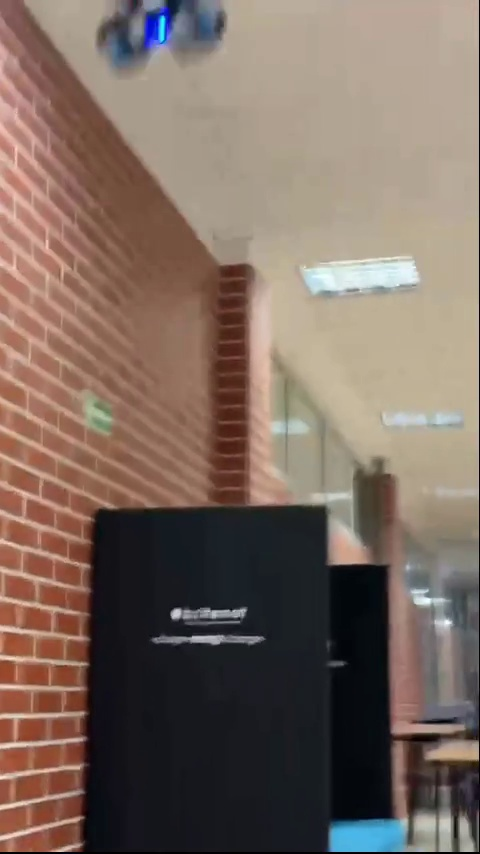drone: (95, 0, 234, 73)
